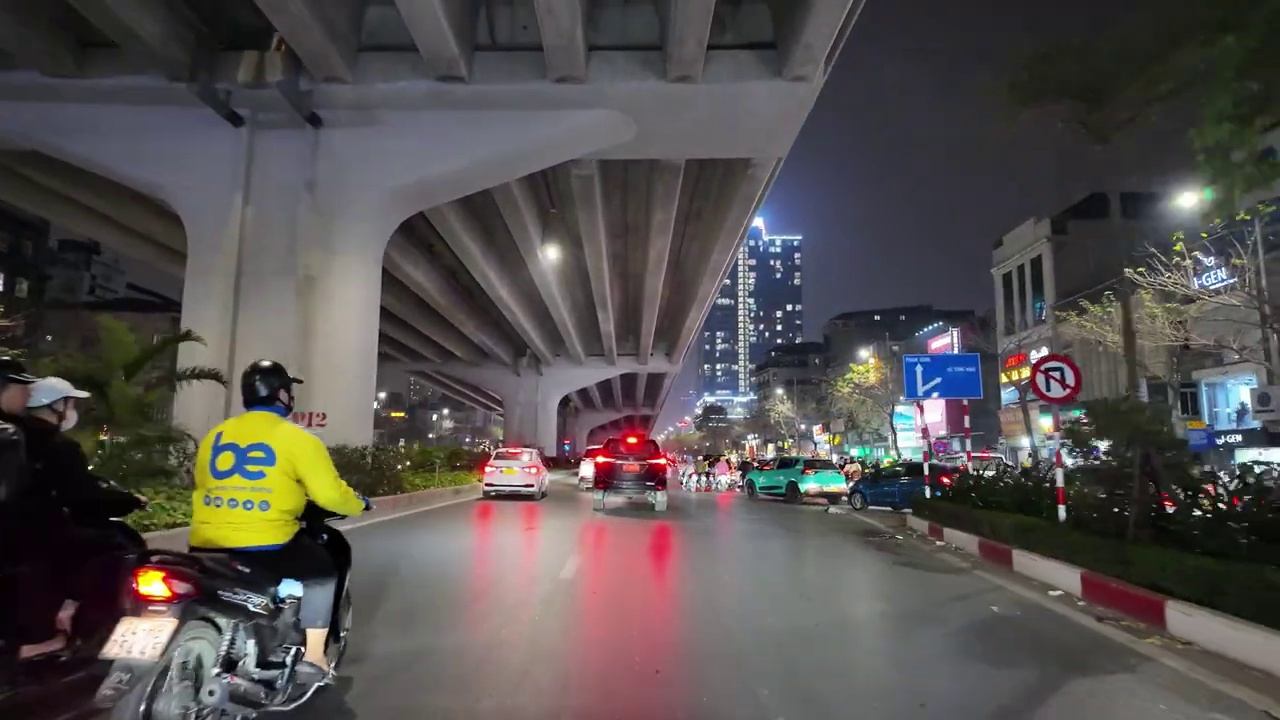acesa: (1170, 186, 1206, 214), (538, 240, 566, 268)
